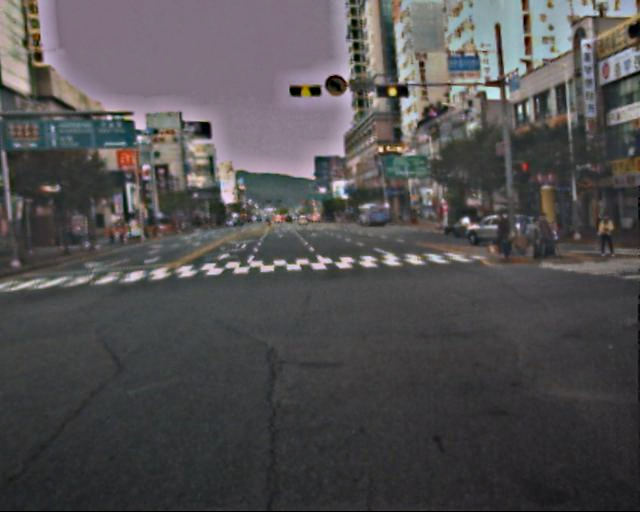person: (535, 211, 555, 261), (593, 213, 614, 257), (527, 218, 547, 262), (492, 212, 511, 257)
